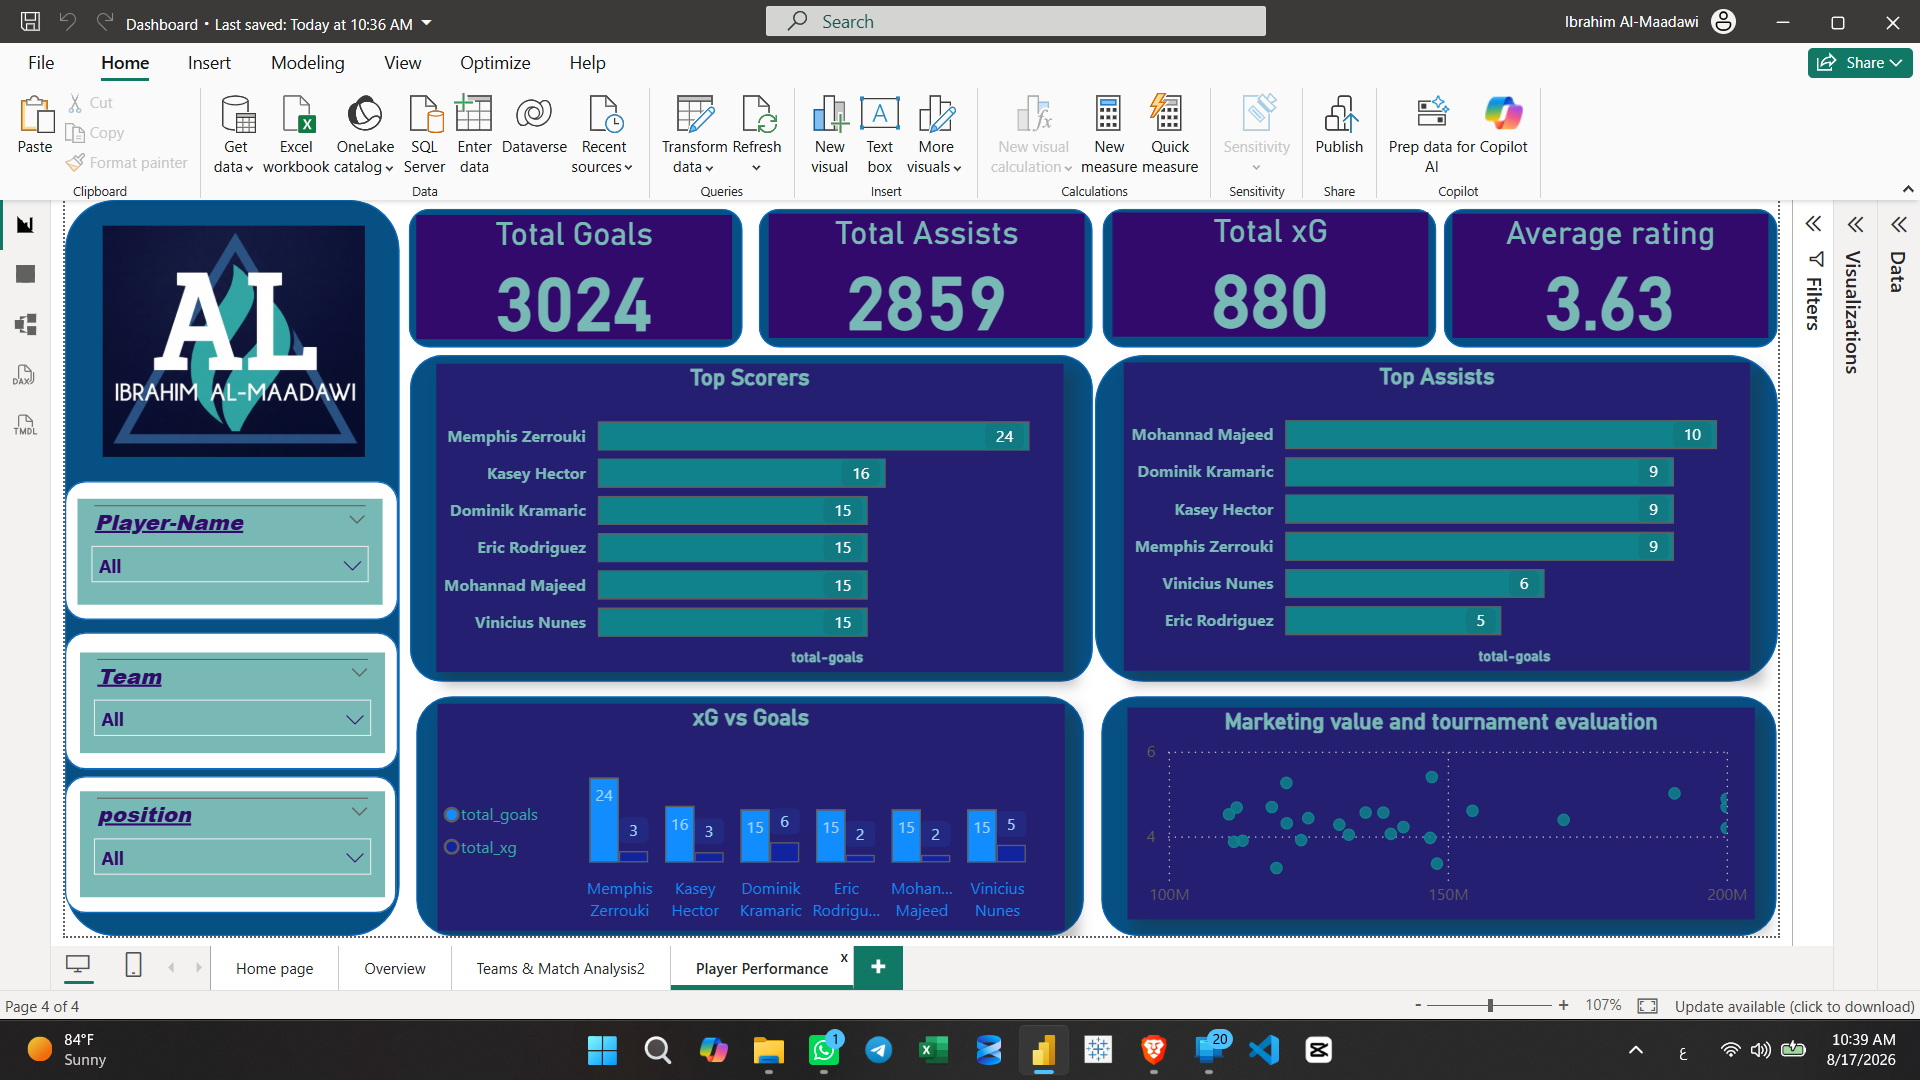

The dashboard page shown, as its layout file describes it:
{"tool":"powerbi","page":{"name":"Player Performance","canvas":[1280,550],"ordinal":3},"visuals":[{"type":"shape","box":[0,0,250,550],"z":0},{"type":"shape","box":[256.7,6.2,249.5,103.7],"z":1000},{"type":"shape","box":[518.4,6.2,249.5,103.7],"z":2000},{"type":"shape","box":[775.1,6.2,249.5,103.7],"z":3000},{"type":"shape","box":[1030.5,6.2,249.5,103.7],"z":4000},{"type":"shape","box":[257.7,116,510.2,244.3],"z":5000},{"type":"shape","box":[769.8,116,510.2,244.3],"z":6000},{"type":"shape","box":[262.8,370.9,498.8,179.1],"z":7000},{"type":"shape","box":[774.4,370.9,504.7,179.1],"z":8000},{"type":"card","title":"Total Goals","fields":{"Values":["vw_player_tournament_master.Measure"]},"box":[262.8,11.6,236,93],"z":9000},{"type":"card","title":"Total Assists","fields":{"Values":["Sum(vw_player_tournament_master.total_assists)"]},"box":[525.6,10.5,236,93],"z":10000},{"type":"card","title":"Total xG","fields":{"Values":["vw_player_tournament_master.Total xG"]},"box":[782.6,9.3,236,93],"z":11000},{"type":"card","title":"Average rating","fields":{"Values":["vw_player_tournament_master.Avg Tournament Rating"]},"box":[1037.2,10.5,236,93],"z":12000},{"type":"shape","box":[0,210.5,248.8,103.5],"z":13000},{"type":"shape","box":[0,323.3,248.8,102.3],"z":14000},{"type":"slicer","fields":{"Values":["vw_player_tournament_master.team"]},"box":[11.6,338.4,227.9,75.6],"z":15000},{"type":"clusteredBarChart","title":"Top Scorers","fields":{"Category":["vw_player_tournament_master.player_name"],"Y":["Sum(vw_player_tournament_master.total_goals)"]},"box":[277.4,122.4,468.9,230.7],"z":17000},{"type":"clusteredBarChart","title":"Top Assists","fields":{"Category":["vw_player_tournament_master.player_name"],"Y":["Sum(vw_player_tournament_master.total_assists)"]},"box":[791.3,121.3,468.3,230.5],"z":18000},{"type":"clusteredColumnChart","title":"xG vs Goals","fields":{"Category":["vw_player_tournament_master.player_name"],"Y":["Sum(vw_player_tournament_master.total_goals)","Sum(vw_player_tournament_master.total_xg)"]},"box":[277.9,376.7,468.6,169.8],"z":19000},{"type":"scatterChart","title":"Marketing value and tournament evaluation","fields":{"X":["Sum(vw_player_tournament_master.market_value_eur)"],"Y":["Sum(vw_player_tournament_master.avg_player_rating)"],"Category":["vw_player_tournament_master.player_name"]},"box":[793.9,379.2,469,158.2],"z":20000},{"type":"image","box":[23.3,0,205.8,210.5],"z":21000},{"type":"shape","box":[0,430.2,247.7,102.3],"z":22000},{"type":"slicer","fields":{"Values":["vw_player_tournament_master.player_name"]},"box":[9.3,223.3,227.9,79.1],"z":23000},{"type":"slicer","fields":{"Values":["vw_player_tournament_master.position"]},"box":[11.6,441.9,227.9,79.1],"z":24000}]}

Visuals, with their boxes on the page's 1280x550 design canvas (x1, y1, x2, y2). These are canvas units, not pixel positions in the 1920x1080 screenshot, which may show the page scaled, cropped or inside an application window:
shape: (left=0, top=0, right=250, bottom=550)
shape: (left=257, top=6, right=506, bottom=110)
shape: (left=518, top=6, right=768, bottom=110)
shape: (left=775, top=6, right=1025, bottom=110)
shape: (left=1030, top=6, right=1280, bottom=110)
shape: (left=258, top=116, right=768, bottom=360)
shape: (left=770, top=116, right=1280, bottom=360)
shape: (left=263, top=371, right=762, bottom=550)
shape: (left=774, top=371, right=1279, bottom=550)
"Total Goals" card: (left=263, top=12, right=499, bottom=105)
"Total Assists" card: (left=526, top=10, right=762, bottom=104)
"Total xG" card: (left=783, top=9, right=1019, bottom=102)
"Average rating" card: (left=1037, top=10, right=1273, bottom=104)
shape: (left=0, top=210, right=249, bottom=314)
shape: (left=0, top=323, right=249, bottom=426)
slicer - vw_player_tournament_master.team: (left=12, top=338, right=240, bottom=414)
"Top Scorers" clusteredBarChart: (left=277, top=122, right=746, bottom=353)
"Top Assists" clusteredBarChart: (left=791, top=121, right=1260, bottom=352)
"xG vs Goals" clusteredColumnChart: (left=278, top=377, right=746, bottom=546)
"Marketing value and tournament evaluation" scatterChart: (left=794, top=379, right=1263, bottom=537)
image: (left=23, top=0, right=229, bottom=210)
shape: (left=0, top=430, right=248, bottom=532)
slicer - vw_player_tournament_master.player_name: (left=9, top=223, right=237, bottom=302)
slicer - vw_player_tournament_master.position: (left=12, top=442, right=240, bottom=521)
